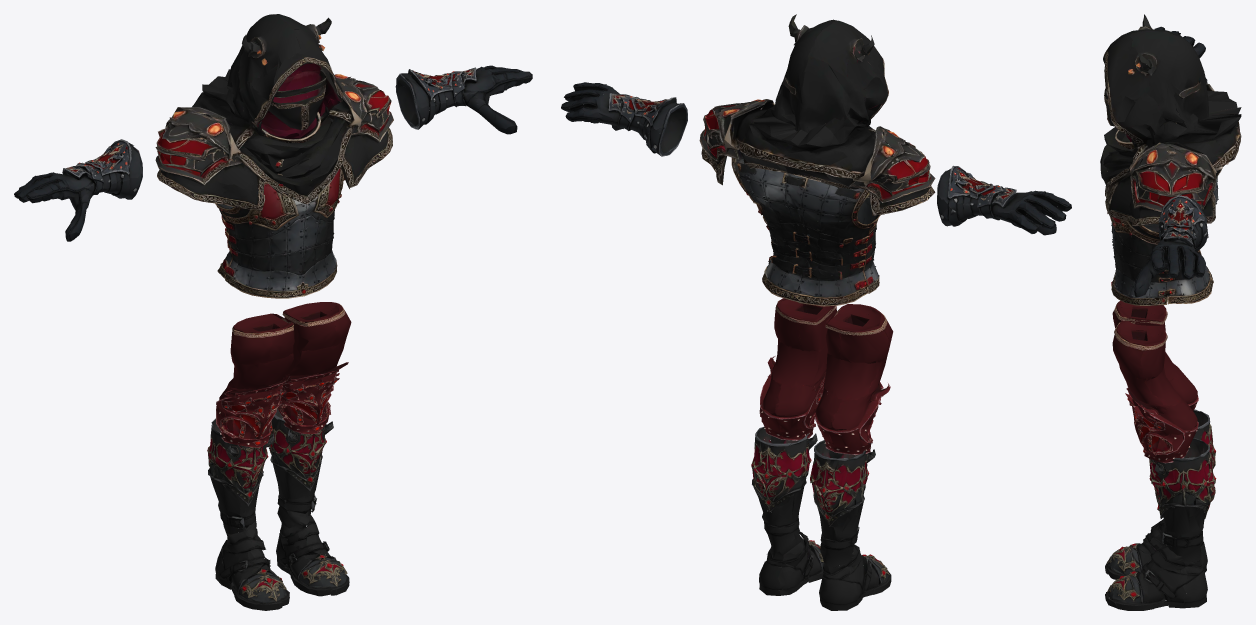
File: ai_light_infernal.glb
3 renders of one model, left to right at view 1: azimuth 30°, elevation 25°; view 2: azimuth 150°, elevation 25°; view 3: azimuth 270°, elevation 25°, orthographic. The views are drawn at different scales.
Visible parts, largest first — view 1: hood, feet, legs, chest, gloves; view 2: hood, feet, legs, chest, gloves; view 3: hood, feet, legs, chest, gloves.
Boxes of the visible parts, <box> form: hood: <box>155,14,393,210</box>; feet: <box>207,408,349,610</box>; legs: <box>216,302,351,447</box>; chest: <box>201,106,351,298</box>; gloves: <box>14,65,532,241</box>; hood: <box>699,14,935,215</box>; feet: <box>751,426,891,610</box>; legs: <box>759,298,893,455</box>; chest: <box>731,119,880,306</box>; gloves: <box>561,82,1071,235</box>; hood: <box>1100,14,1241,226</box>; feet: <box>1105,409,1216,610</box>; legs: <box>1112,300,1198,463</box>; chest: <box>1105,122,1218,305</box>; gloves: <box>1133,26,1208,297</box>.
Size of the model in its own units: 1.8 by 1.92 by 0.4425.
Materials: 5 (5 with a texture image).
